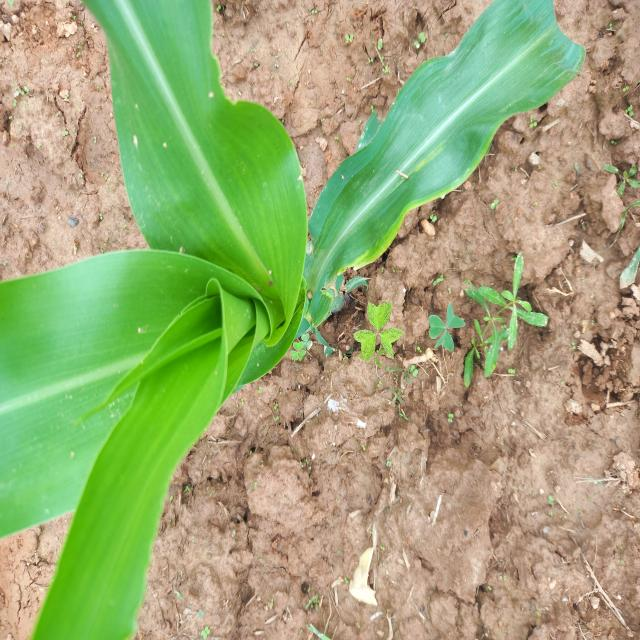maize: (0, 0, 362, 640)
weed: (456, 248, 546, 378), (350, 277, 411, 367), (422, 273, 466, 365)
